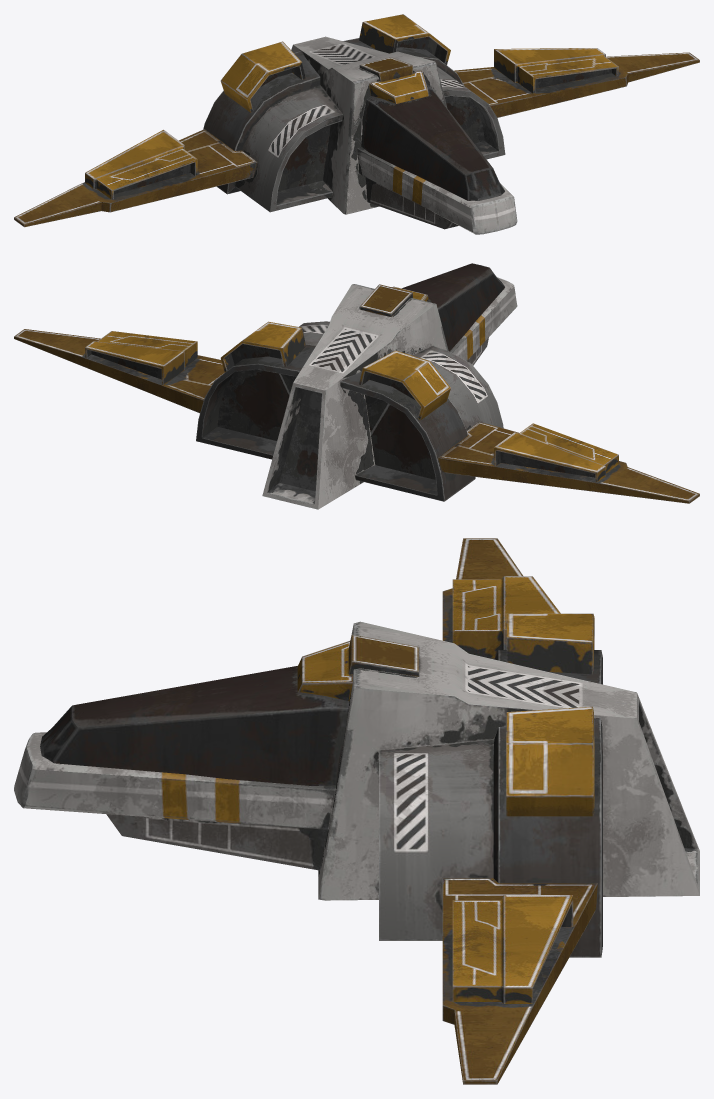
Rendered from bob.glb.
3 renders of one model, top to bottom at view 1: azimuth 30°, elevation 25°; view 2: azimuth 150°, elevation 25°; view 3: azimuth 270°, elevation 25°, orthographic. The views are drawn at different scales.
Parts seen in each view (by area): view 1: Bob; view 2: Bob; view 3: Bob.
Boxes of the visible parts, x1,y1,x2,y2 form: Bob: [14, 14, 699, 234]; Bob: [14, 263, 699, 509]; Bob: [14, 538, 699, 1084].
Bounding box in the file's own units: 10.5 × 2.04 × 5.61.
1 material, 1 textured.
